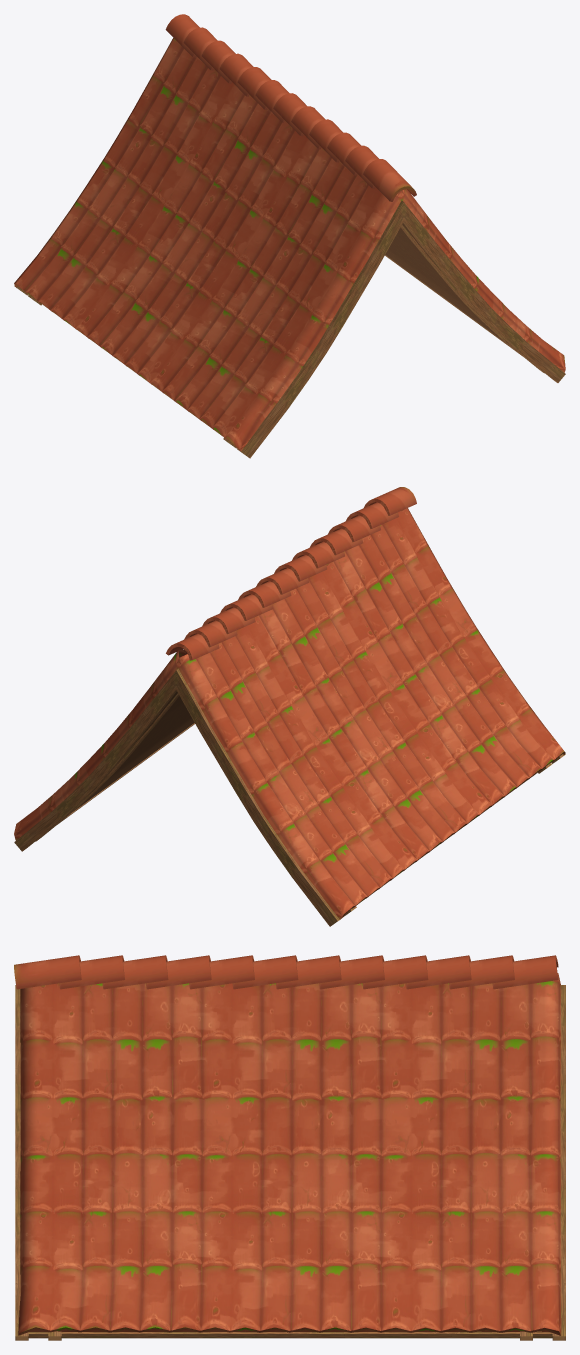
Rendered from tile-roof.glb.
3 views of the same model, one above another, from view 1: azimuth 30°, elevation 25°; view 2: azimuth 150°, elevation 25°; view 3: azimuth 270°, elevation 25° (orthographic). The views are drawn at different scales.
Parts seen in each view (by area): view 1: Roof_RoundTiles_6x8; view 2: Roof_RoundTiles_6x8; view 3: Roof_RoundTiles_6x8.
Part boxes in pixels (bbox=[...]): Roof_RoundTiles_6x8: bbox=[14, 14, 565, 458]; Roof_RoundTiles_6x8: bbox=[14, 487, 565, 926]; Roof_RoundTiles_6x8: bbox=[14, 955, 565, 1340].
Bounding box in the file's own units: 8.25 × 5.67 × 9.68.
2 materials, 2 textured.
